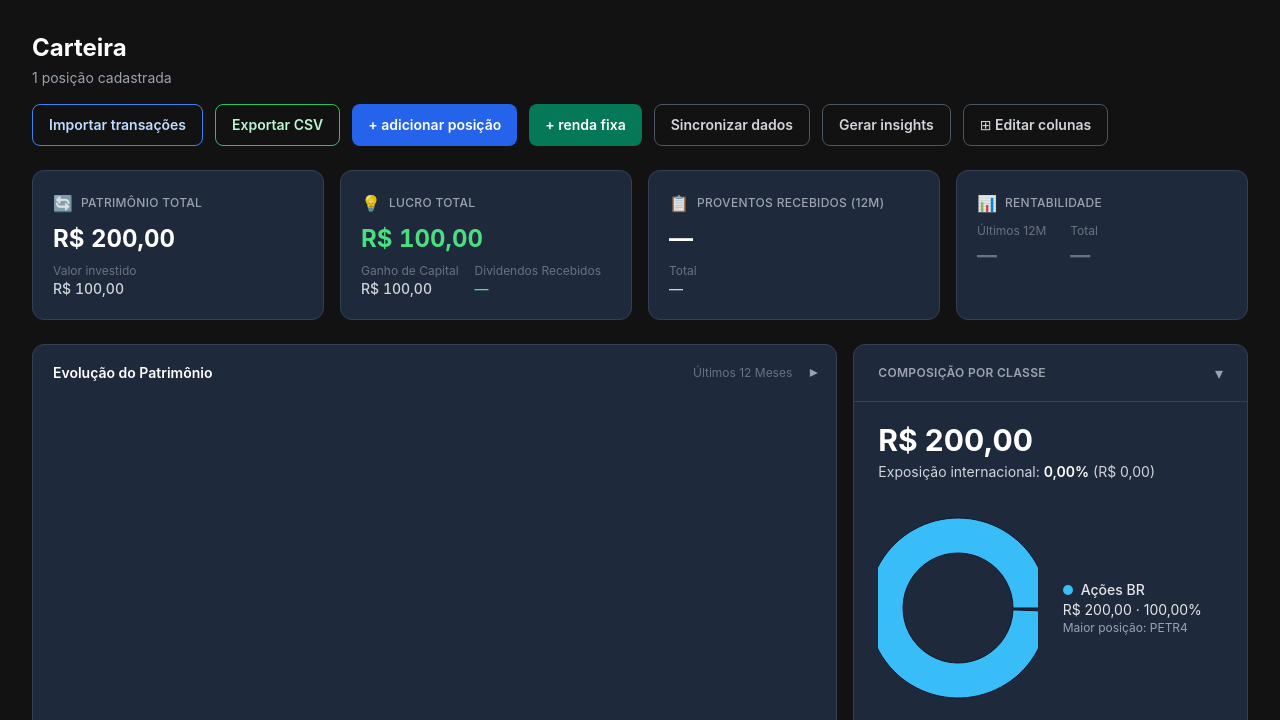
Test: CarteiraPage — ordenação da lista › informa falha síncrona do download de forma acessível
Click the button "Exportar CSV" at (278, 125), box [215, 104, 340, 146]
(page scrolled)
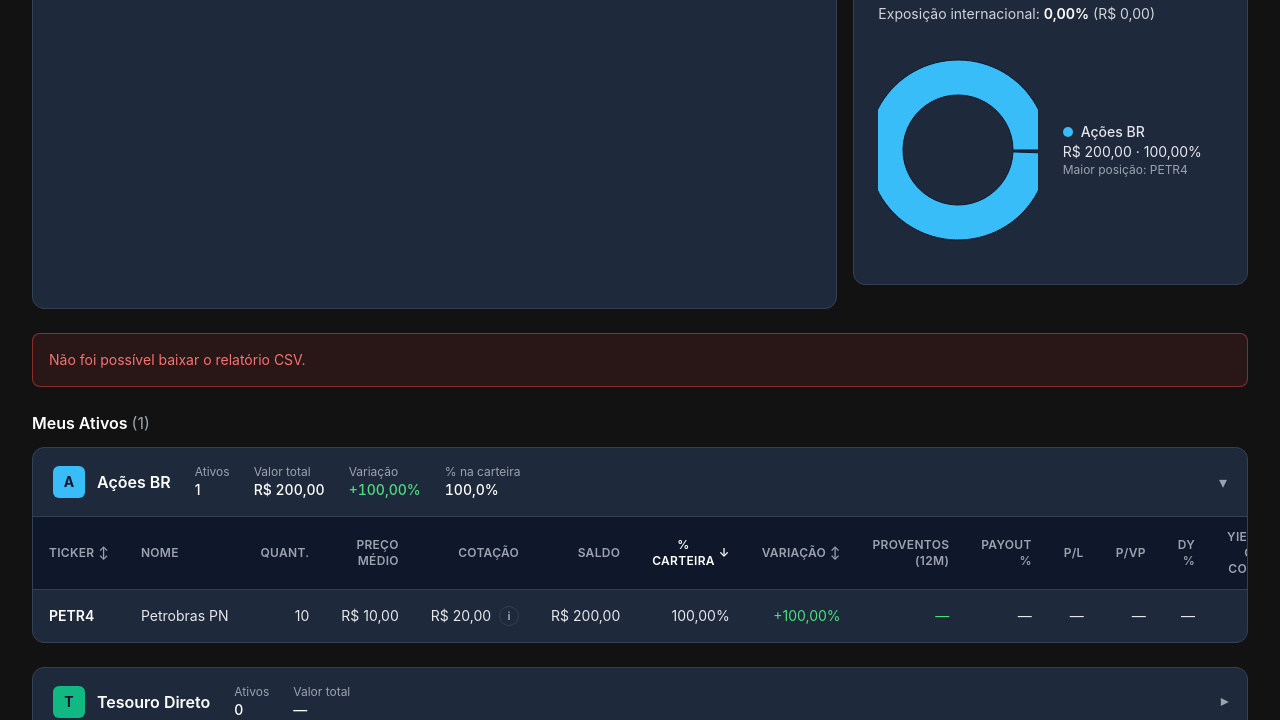
expect the message reads "Não foi possível baixar o relatório CSV.": met, box [49, 351, 305, 368]
